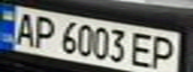0: (90, 25, 112, 61), (75, 21, 93, 57)
3: (109, 26, 130, 65)
6: (54, 19, 78, 55)
A: (9, 9, 39, 47)
E: (127, 29, 160, 70)
P: (148, 34, 181, 72), (30, 12, 60, 51)
